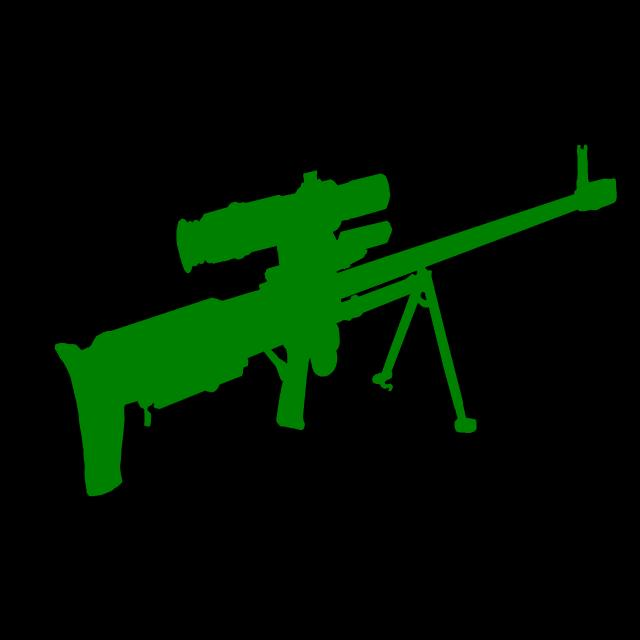firearm: (53, 142, 618, 498)
